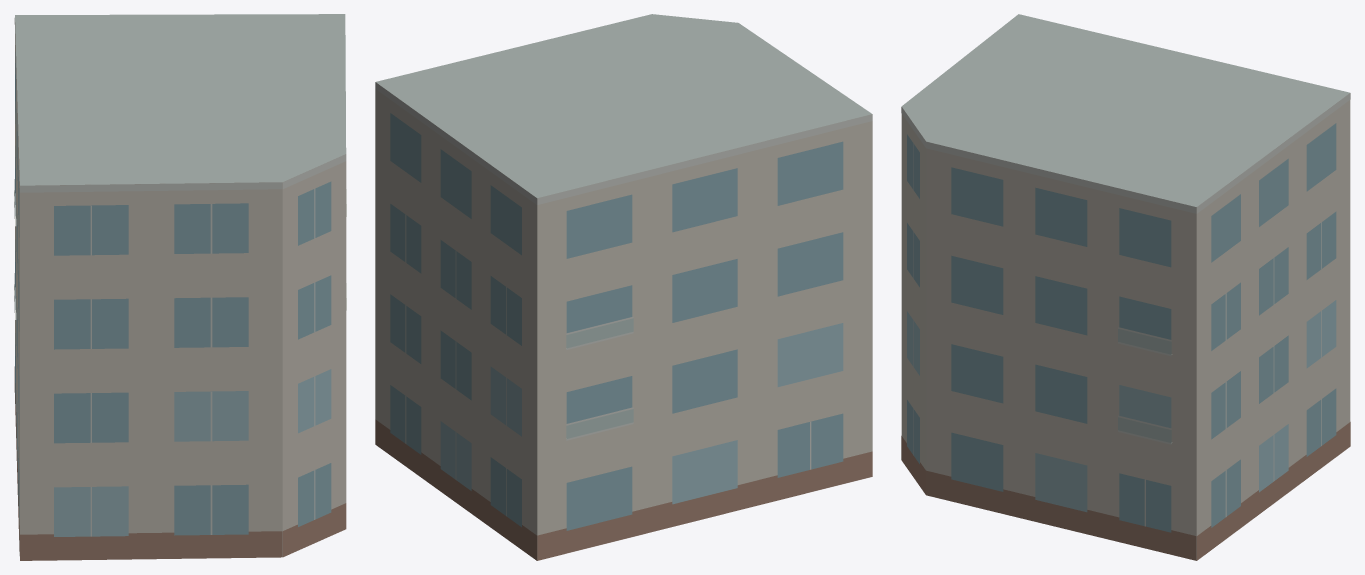
The model's file is survey-upis-32652263.glb.
3 renders of one model, left to right at view 1: azimuth 30°, elevation 25°; view 2: azimuth 150°, elevation 25°; view 3: azimuth 270°, elevation 25°, orthographic. The views are drawn at different scales.
Visible parts, largest first — view 1: survey-upis-32652263.tmp; view 2: survey-upis-32652263.tmp; view 3: survey-upis-32652263.tmp.
Boxes of the visible parts, <box> form: survey-upis-32652263.tmp: <box>14,14,346,560</box>; survey-upis-32652263.tmp: <box>375,14,872,560</box>; survey-upis-32652263.tmp: <box>901,14,1350,560</box>.
Size of the model in its own units: 15 by 12.8 by 14.74.
